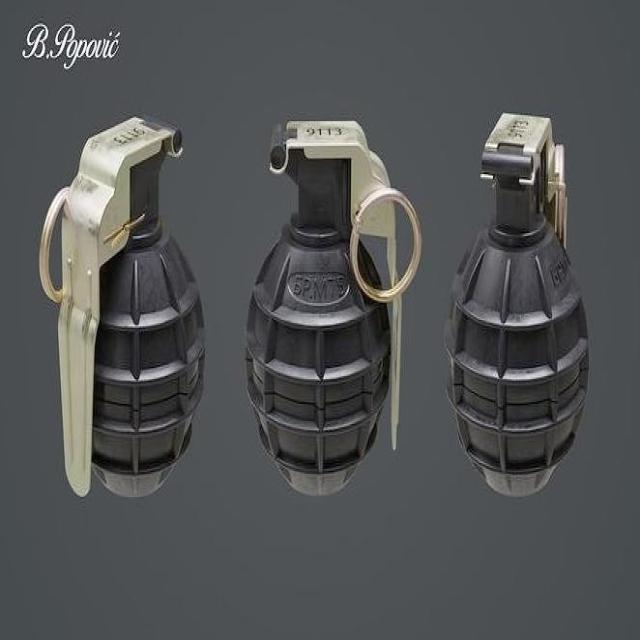grenade: (247, 121, 422, 499), (41, 118, 206, 500), (446, 113, 590, 500)
